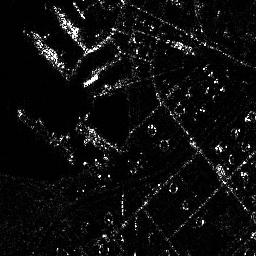ship: (31, 30, 58, 63), (54, 5, 79, 39)
